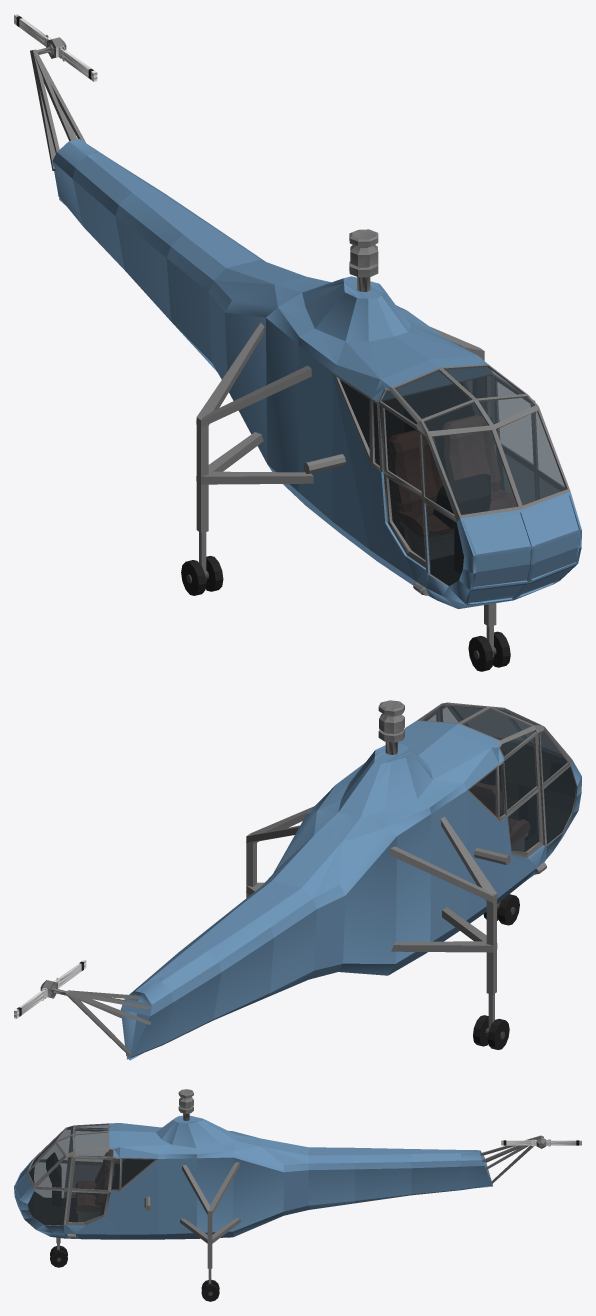
Rendered from aircraft_15_damage.glb.
3 views of the same model, one above another, from view 1: azimuth 30°, elevation 25°; view 2: azimuth 150°, elevation 25°; view 3: azimuth 270°, elevation 25° (orthographic). The views are drawn at different scales.
Parts seen in each view (by area): view 1: fuselage, TailBreakaway, seats, door right, upper supports right, tail assembly, lower supports right, instrument panel, door left, rotor shaft, WheelAndAxle right, WheelAndAxleFront (+2 smaller); view 2: fuselage, TailBreakaway, door right, upper supports right, instrument panel, tail assembly, lower supports right, rotor shaft, WheelAndAxle right, seats, gear strut right, upper supports left (+3 smaller); view 3: fuselage, TailBreakaway, door left, seats, tail assembly, upper supports left, door right, instrument panel, lower supports left, tail rotor, rotor shaft, WheelAndAxle left (+2 smaller).
Part boxes in pixels (x1,y1,x2,y2): fuselage: [219, 265, 581, 608]; TailBreakaway: [52, 139, 275, 379]; seats: [388, 415, 516, 559]; door right: [380, 404, 430, 568]; upper supports right: [196, 322, 311, 427]; tail assembly: [30, 37, 85, 170]; lower supports right: [196, 432, 313, 484]; instrument panel: [433, 474, 490, 573]; door left: [493, 377, 538, 504]; rotor shaft: [349, 229, 378, 291]; WheelAndAxle right: [181, 532, 223, 595]; WheelAndAxleFront: [468, 625, 510, 671]; fuselage: [272, 702, 581, 975]; TailBreakaway: [120, 865, 336, 1060]; door right: [501, 732, 543, 857]; upper supports right: [390, 816, 497, 902]; instrument panel: [501, 747, 550, 839]; tail assembly: [40, 980, 151, 1055]; lower supports right: [391, 907, 497, 952]; rotor shaft: [378, 700, 404, 754]; WheelAndAxle right: [473, 994, 509, 1049]; seats: [469, 782, 529, 851]; gear strut right: [486, 894, 496, 994]; upper supports left: [246, 806, 314, 844]; fuselage: [14, 1115, 291, 1239]; TailBreakaway: [292, 1144, 492, 1213]; door left: [65, 1156, 113, 1225]; seats: [76, 1151, 113, 1221]; tail assembly: [480, 1135, 546, 1183]; upper supports left: [182, 1162, 239, 1214]; door right: [66, 1129, 111, 1197]; instrument panel: [46, 1152, 61, 1205]; lower supports left: [180, 1218, 240, 1243]; tail rotor: [501, 1139, 581, 1146]; rotor shaft: [178, 1089, 193, 1120]; WheelAndAxle left: [201, 1268, 219, 1301].
Size of the model in its own units: 3.35 by 3.6 by 10.72.
